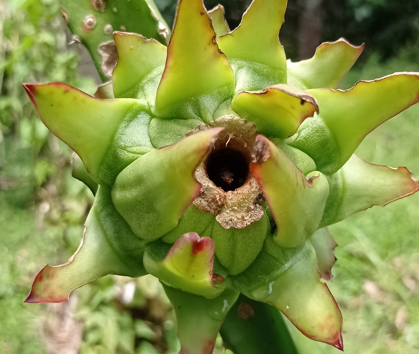Belum Matang: (58, 36, 358, 279)
